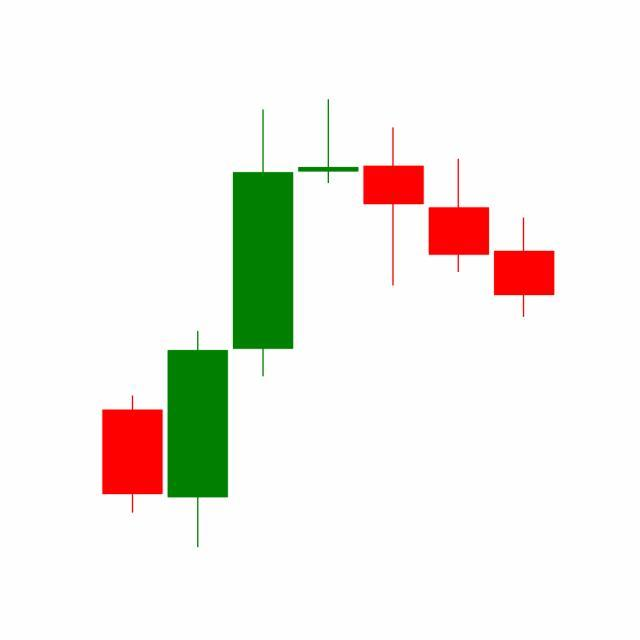Hikkake Pattern: (229, 99, 555, 381)
